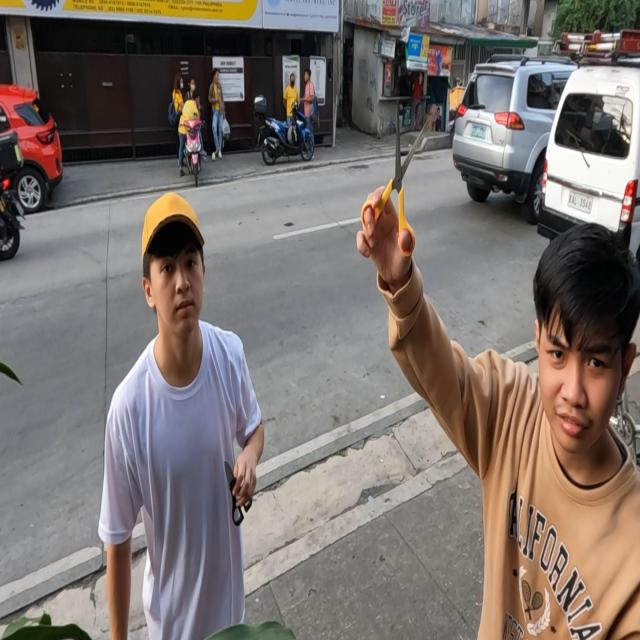scissor: (361, 99, 429, 258), (224, 459, 253, 527)
